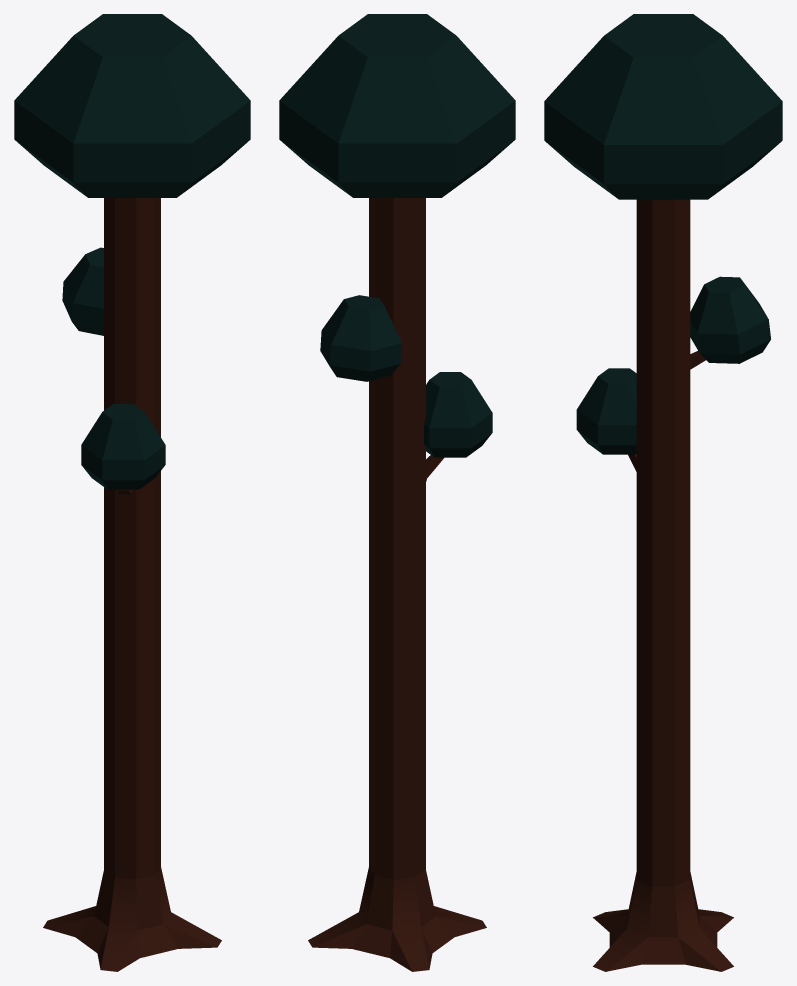
File: LongTree4.fbx
The picture shows the model from 3 angles, left to right: view 1: azimuth 30°, elevation 25°; view 2: azimuth 150°, elevation 25°; view 3: azimuth 270°, elevation 25°; orthographic projection.
Visible parts, largest first — view 1: mergedBlocks; view 2: mergedBlocks; view 3: mergedBlocks.
Boxes of the visible parts, x1,y1,x2,y2 form: mergedBlocks: (14,14,250,971); mergedBlocks: (279,14,515,971); mergedBlocks: (544,14,782,971).
Bounding box in the file's own units: 14 × 67.8 × 16.17.
